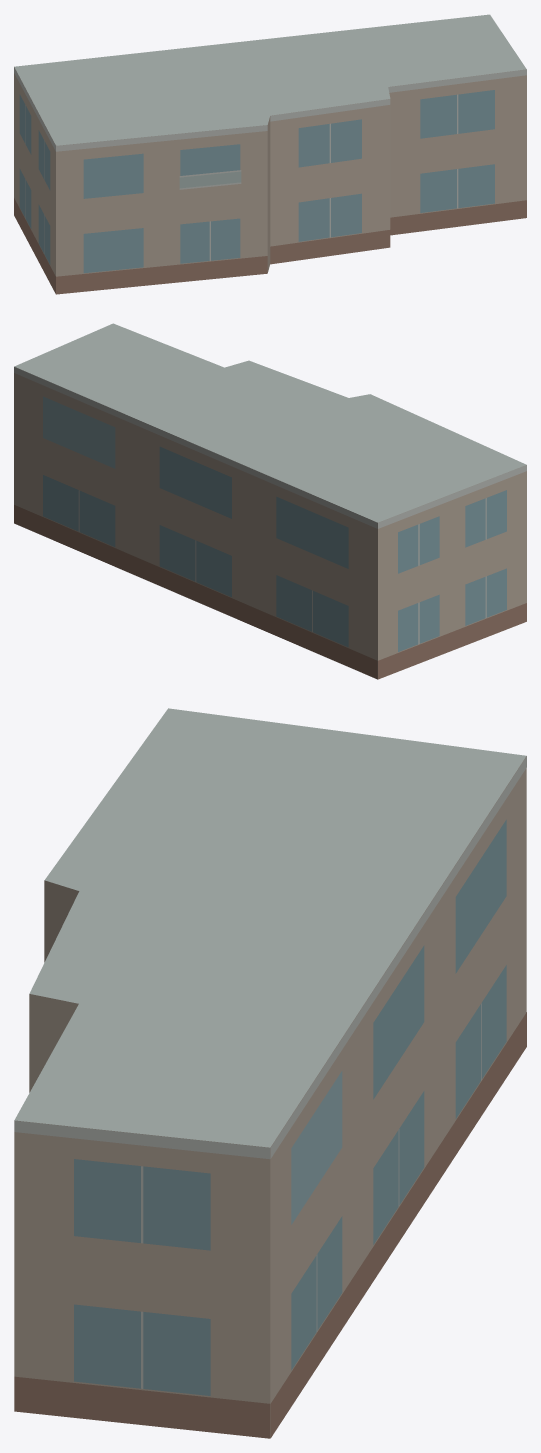
Rendered from survey-upis-32669415.glb.
3 renders of one model, top to bottom at view 1: azimuth 30°, elevation 25°; view 2: azimuth 150°, elevation 25°; view 3: azimuth 270°, elevation 25°, orthographic. The views are drawn at different scales.
Visible parts, largest first — view 1: survey-upis-32669415.tmp; view 2: survey-upis-32669415.tmp; view 3: survey-upis-32669415.tmp.
Part boxes in pixels (x1,y1,x2,y2): survey-upis-32669415.tmp: (14, 14, 526, 294); survey-upis-32669415.tmp: (14, 323, 526, 679); survey-upis-32669415.tmp: (14, 708, 526, 1438).
Size of the model in its own units: 19.77 by 6.1 by 9.75.
